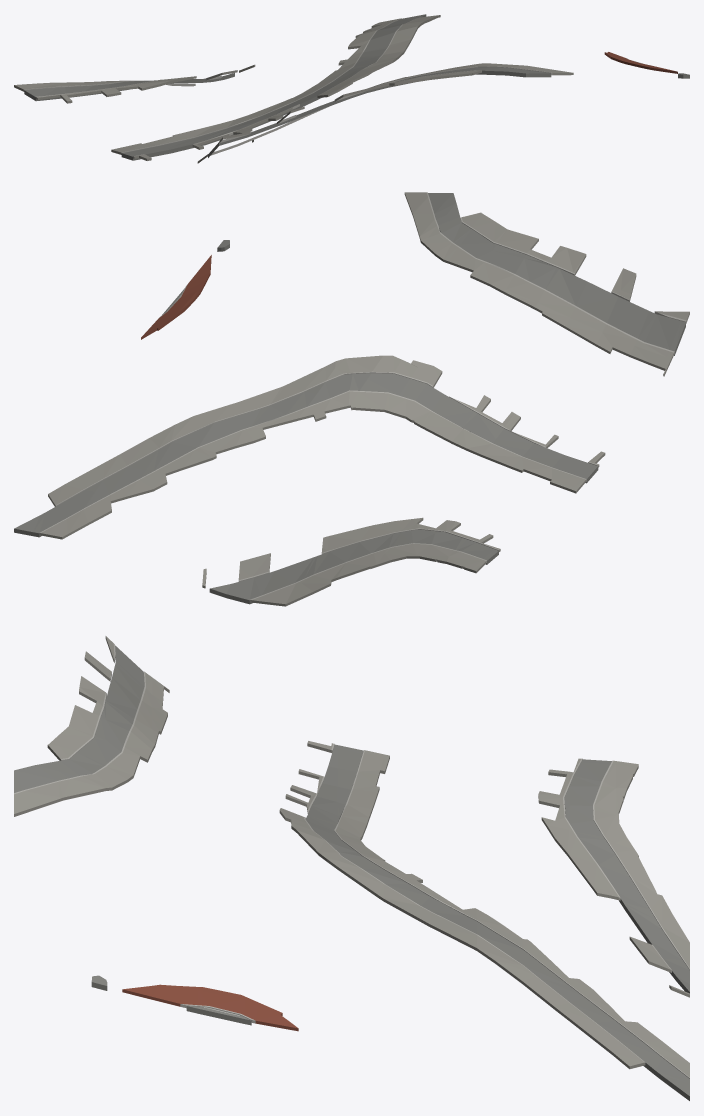
Rendered from 18-218882-118959.fad7eb72.glb.
3 views of the same model, one above another, from view 1: azimuth 30°, elevation 25°; view 2: azimuth 150°, elevation 25°; view 3: azimuth 270°, elevation 25° (orthographic). The views are drawn at different scales.
Bounding box in the file's own units: 147 × 58.66 × 146.
